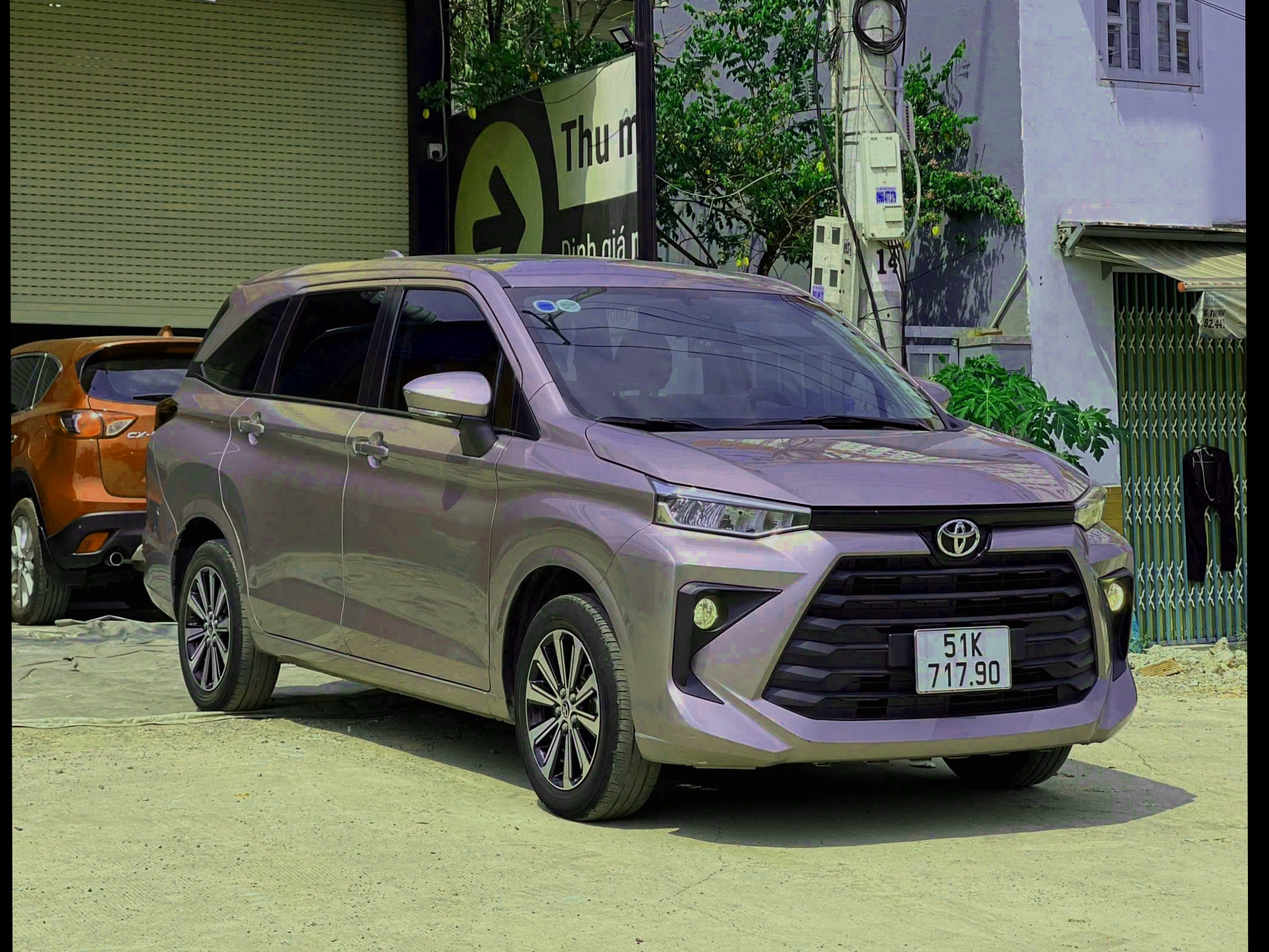Bien-so: (934, 658, 1038, 731)
